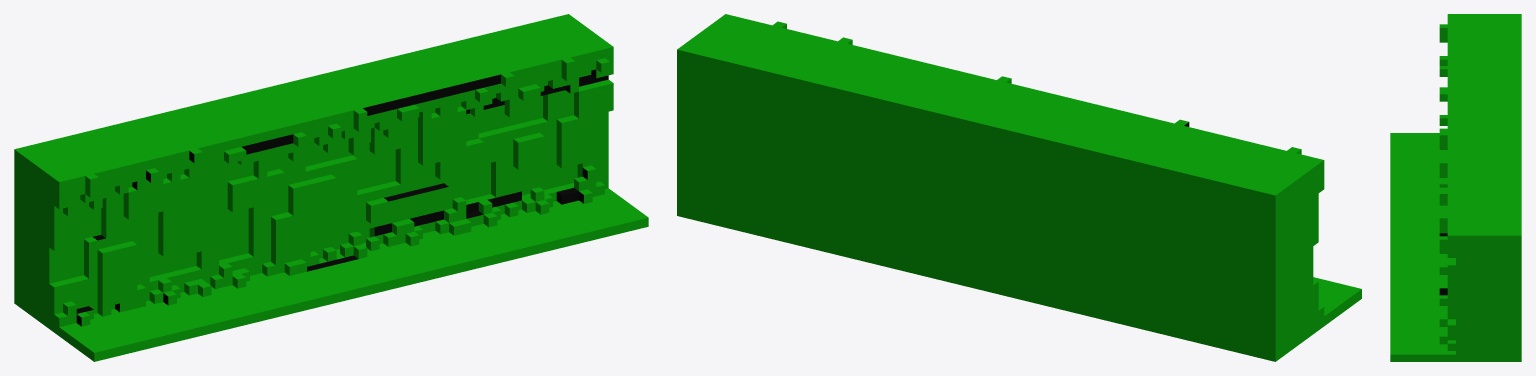
Rendered from Straight8.fbx.
3 views of the same model, side by side, from view 1: azimuth 30°, elevation 25°; view 2: azimuth 150°, elevation 25°; view 3: azimuth 270°, elevation 25° (orthographic). The views are drawn at different scales.
Visible parts, largest first — view 1: Ground, Cliff; view 2: Cliff, Ground; view 3: Ground, Cliff.
Part boxes in pixels (x1=…): Ground: x1=14, y1=14, x2=648, y2=361; Cliff: x1=14, y1=70, x2=613, y2=332; Cliff: x1=677, y1=59, x2=1318, y2=361; Ground: x1=677, y1=14, x2=1361, y2=329; Ground: x1=1390, y1=14, x2=1521, y2=361; Cliff: x1=1447, y1=243, x2=1521, y2=361.
Bounding box in the file's own units: 64 × 17 × 16.
